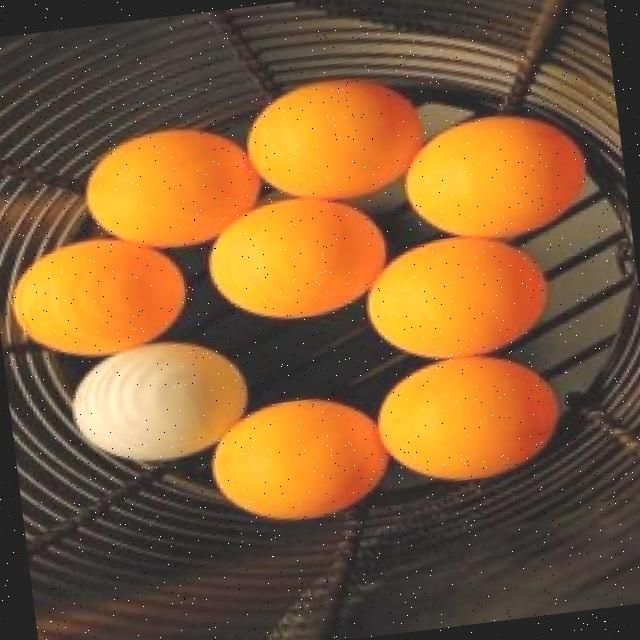ping-pong-ball: (370, 346, 566, 489), (354, 230, 554, 368), (398, 105, 591, 245), (238, 71, 427, 208), (203, 188, 391, 324), (3, 228, 186, 364), (64, 341, 256, 470), (80, 122, 264, 256), (211, 389, 386, 528)
